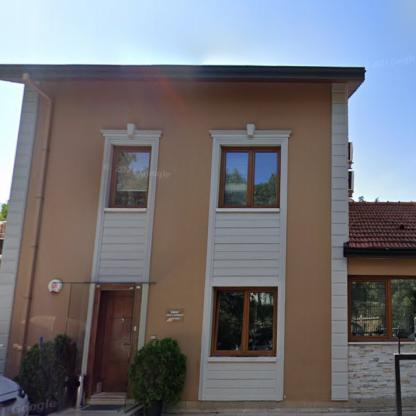door: (100, 294, 132, 390)
window: (350, 278, 415, 336), (217, 288, 275, 350), (221, 149, 277, 206), (112, 150, 150, 205)
